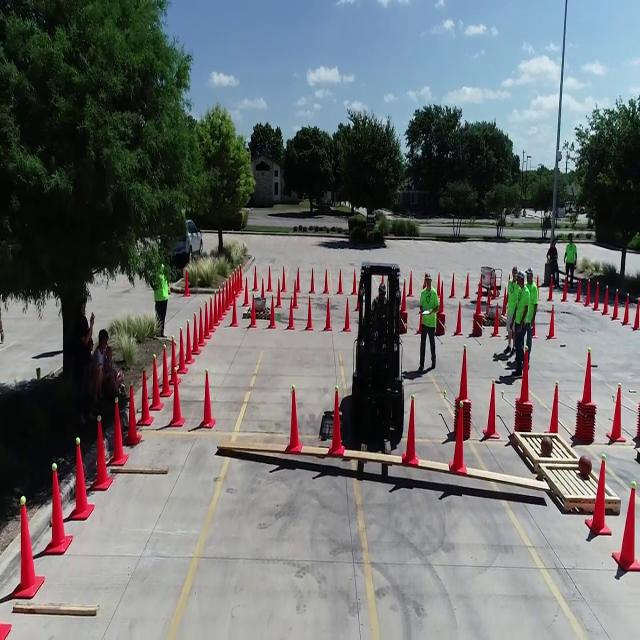Chariot elevateur: (348, 254, 410, 459)
